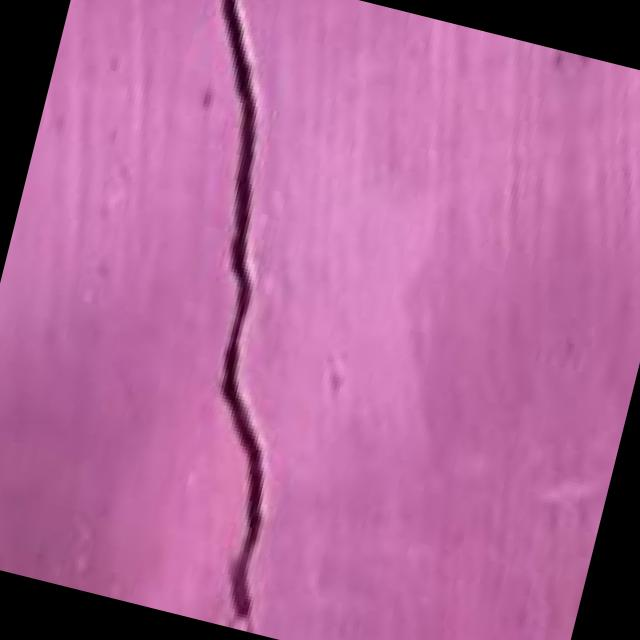crack: (7, 0, 441, 638)
